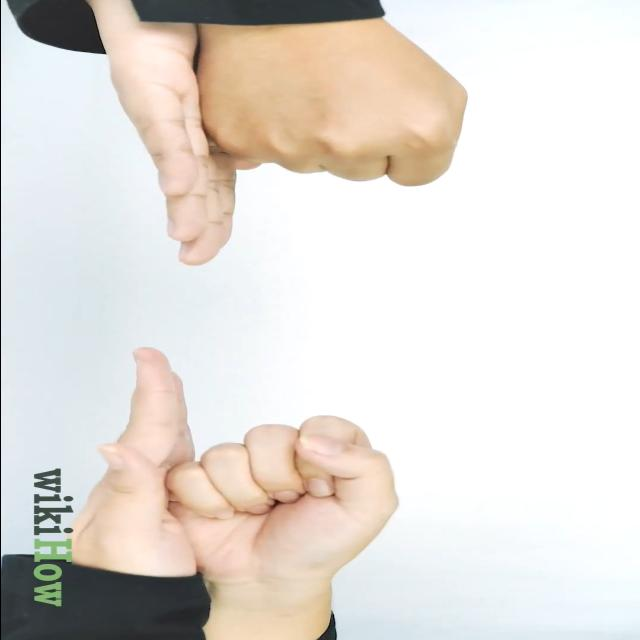Rock: (198, 19, 470, 186), (162, 415, 404, 575)
